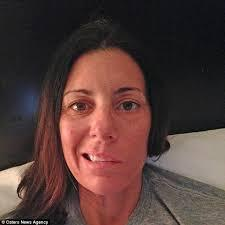strokeEyeWeak: (56, 81, 147, 119)
strokeMouthMid: (70, 145, 133, 172)
